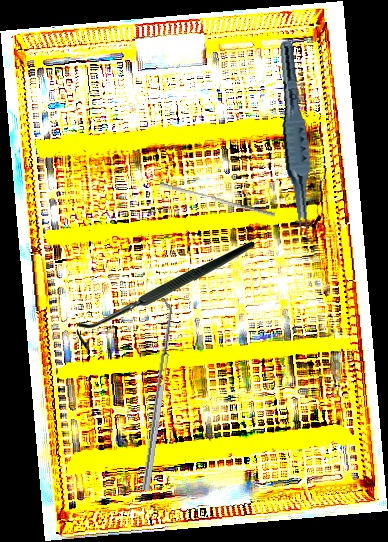Hook Surgical: (77, 238, 254, 352)
Pusher: (158, 181, 277, 218)
Spatula Surgical: (134, 297, 177, 492)
Tissue Forceps: (267, 40, 322, 242)
